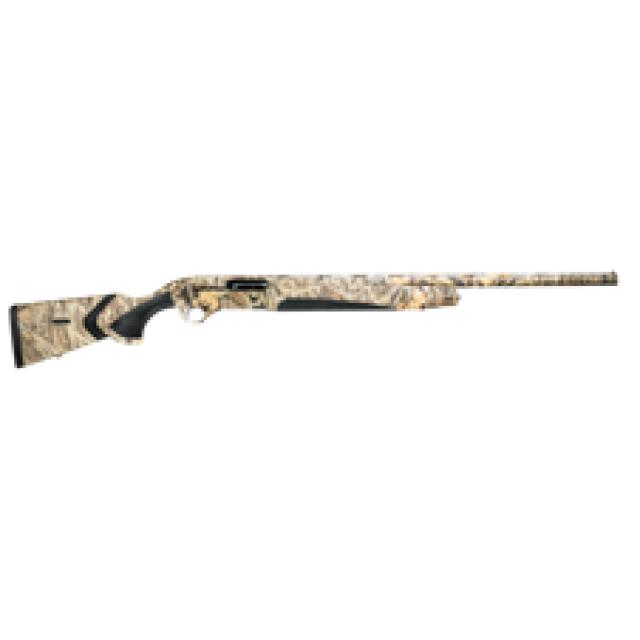rifle: (6, 264, 625, 378)
